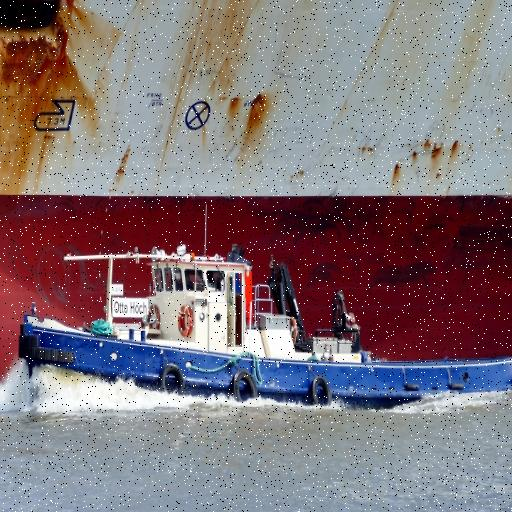tugboat: (15, 243, 512, 422)
